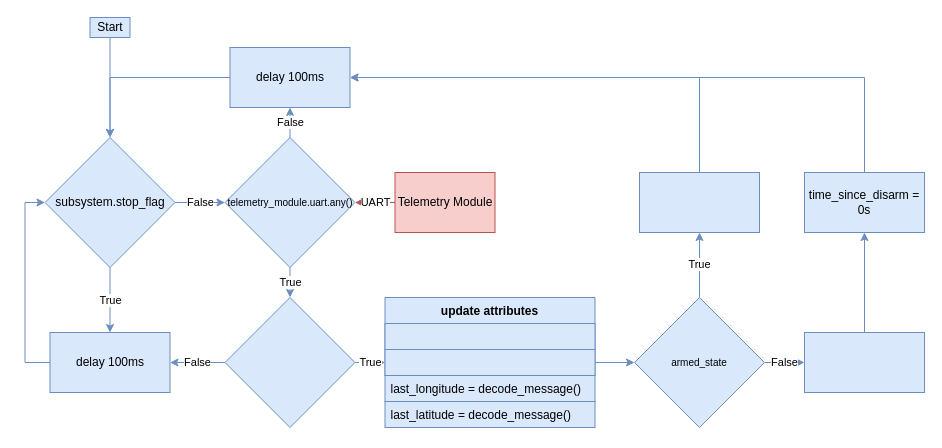
This 942x448 diagram has some shape labels left out. The shapes that lost their labels are listed below. From the top down, each one's centre as x and y in pixels, then its label:
At (699,202): "armed = True".
At (489,336): "armed_state = decode_message()".
At (289,362): "validate message".
At (489,362): "last_armed_state = armed_state".
At (864,362): "armed = False".
